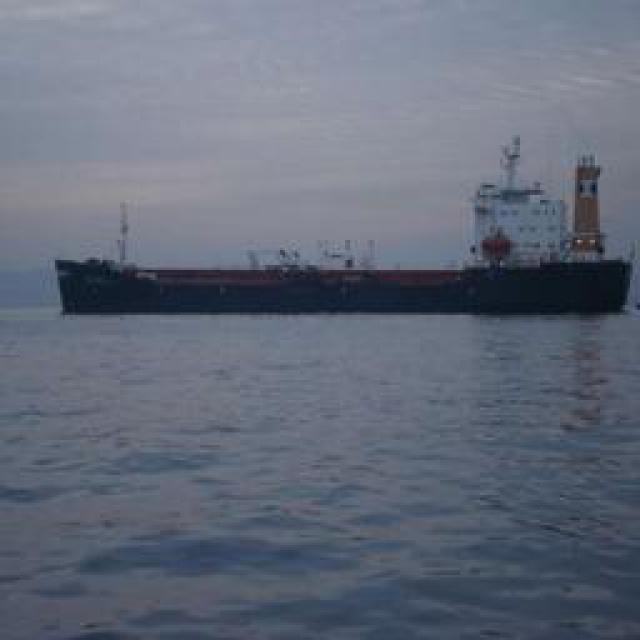Ship: (35, 251, 630, 314)
